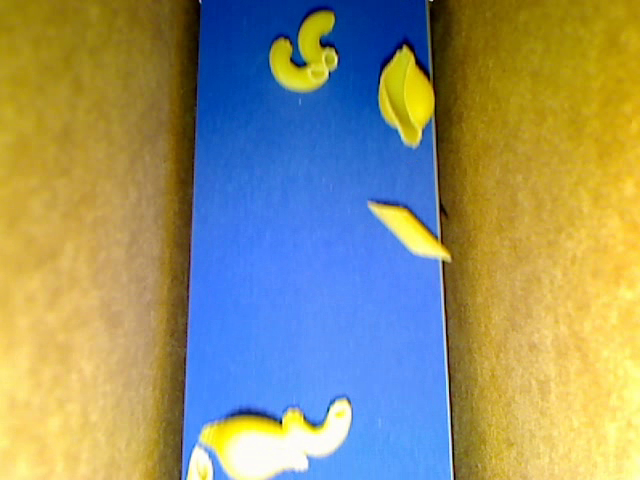elbow: (281, 398, 351, 457), (270, 38, 328, 91), (297, 12, 337, 70)
penne: (366, 200, 452, 260), (186, 446, 215, 479)
shell: (199, 414, 308, 479), (379, 46, 433, 149)
